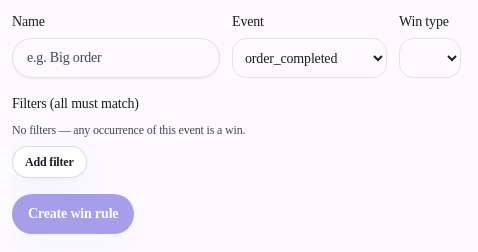
Test: CreateWinRuleForm › disables submit until a name is entered
Check: the button "Create win rule" is disabled, box [12,194,134,234]
Step 1. Type "Big order" into the field labelled "Name" → (116, 58), box [12,38,220,78]
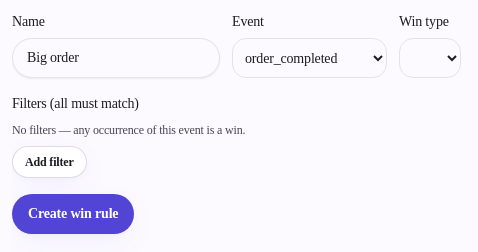
Check: the button "Create win rule" is enabled, box [12,194,134,234]
